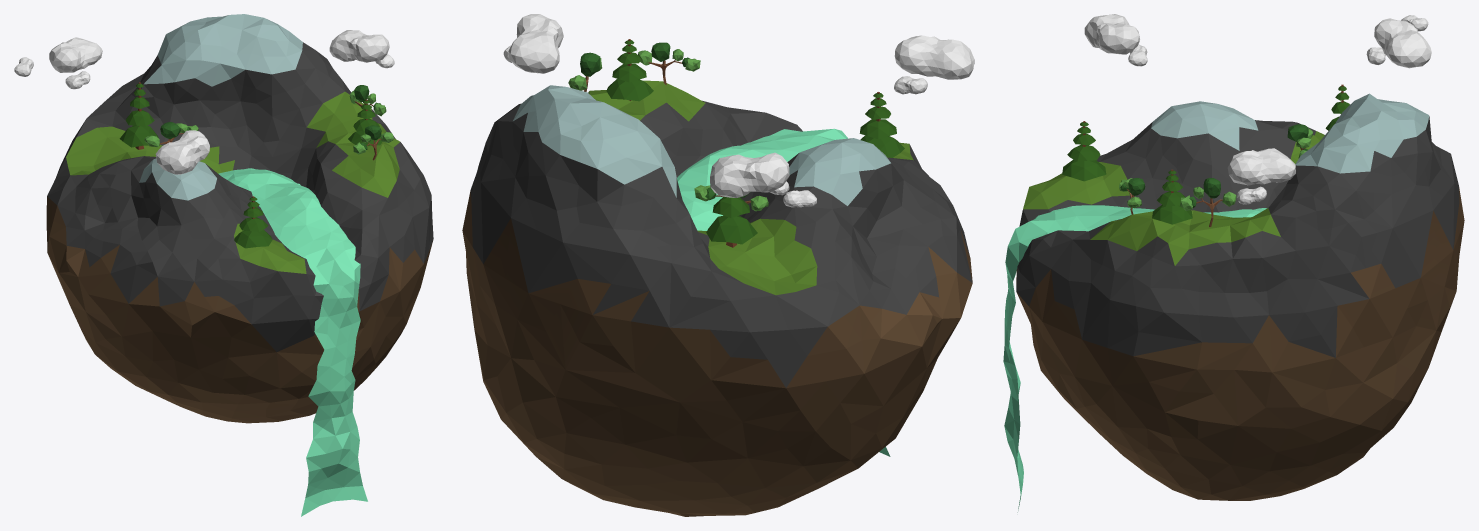
File: low-island.glb
3 renders of one model, left to right at view 1: azimuth 30°, elevation 25°; view 2: azimuth 150°, elevation 25°; view 3: azimuth 270°, elevation 25°, orthographic. The views are drawn at different scales.
Visible parts, largest first — view 1: Icokugel, Fläche, Icokugel.001, Fläche.002, Fläche.001, Fläche.003, Würfel, Würfel.002, Würfel.001; view 2: Icokugel, Icokugel.001, Fläche, Fläche.002, Fläche.003, Fläche.001, Würfel, Würfel.001; view 3: Icokugel, Icokugel.001, Fläche, Fläche.001, Fläche.003, Würfel.001, Würfel.
Boxes of the visible parts, x1,y1,x2,y2 form: Icokugel: (46,14,433,423); Fläche: (218,168,367,516); Icokugel.001: (14,30,394,174); Fläche.002: (119,82,158,149); Fläche.001: (234,196,272,248); Fläche.003: (348,99,382,145); Würfel: (353,125,393,160); Würfel.002: (144,122,198,147); Würfel.001: (349,85,386,116); Icokugel: (462,80,972,516); Icokugel.001: (503,14,974,207); Fläche: (677,128,890,456); Fläche.002: (706,196,757,247); Fläche.003: (606,39,653,101); Fläche.001: (859,92,904,157); Würfel: (638,42,700,84); Würfel.001: (568,52,602,91); Icokugel: (1016,93,1464,500); Icokugel.001: (1084,14,1431,204); Fläche: (1003,205,1266,512); Fläche.001: (1062,121,1106,181); Fläche.003: (1152,169,1192,224); Würfel.001: (1180,178,1236,227); Würfel: (1119,178,1145,214).
Bounding box in the file's own units: 19.06 × 20.12 × 20.06.
